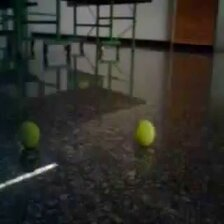tennis: (17, 121, 42, 149), (135, 119, 156, 147)
